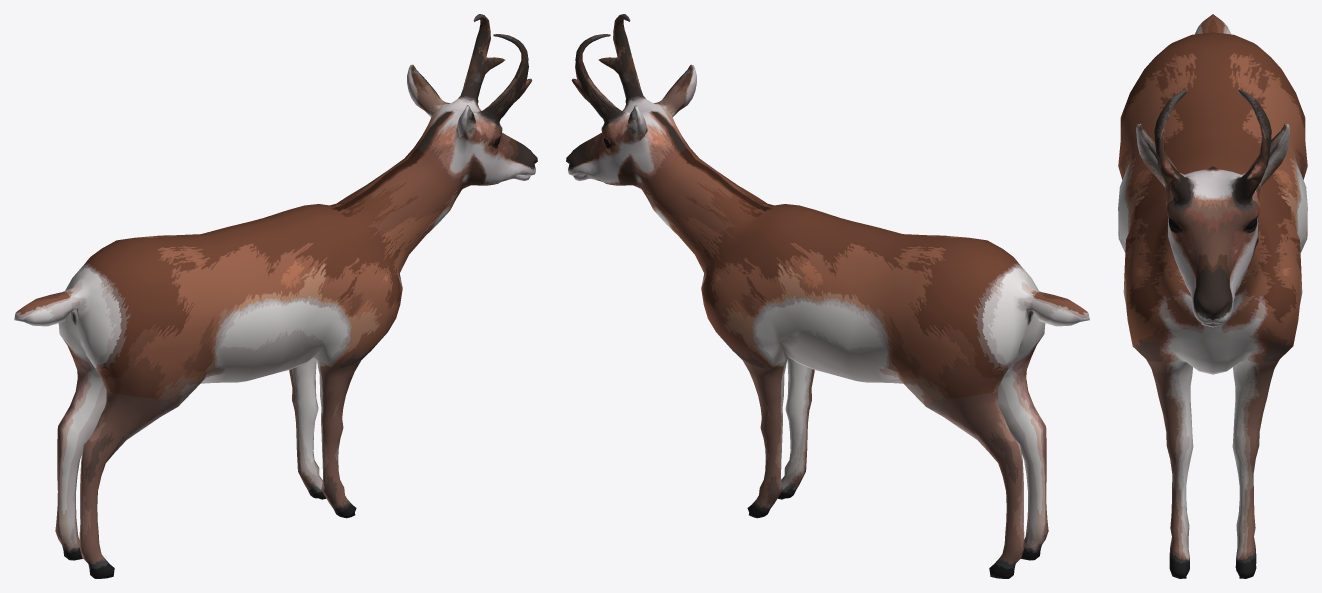
File: vidloroh.glb
3 renders of one model, left to right at view 1: azimuth 30°, elevation 25°; view 2: azimuth 150°, elevation 25°; view 3: azimuth 270°, elevation 25°, orthographic. The views are drawn at different scales.
Parts seen in each view (by area): view 1: sm_1_0_0_Pronghorn_Body_0, sm_1_0_0_Pronghorn_Head_0; view 2: sm_1_0_0_Pronghorn_Body_0, sm_1_0_0_Pronghorn_Head_0; view 3: sm_1_0_0_Pronghorn_Body_0, sm_1_0_0_Pronghorn_Head_0.
Part boxes in pixels (x1=…): sm_1_0_0_Pronghorn_Body_0: x1=14, y1=148, x2=456, y2=578; sm_1_0_0_Pronghorn_Head_0: x1=407, y1=14, x2=537, y2=198; sm_1_0_0_Pronghorn_Body_0: x1=647, y1=148, x2=1089, y2=578; sm_1_0_0_Pronghorn_Head_0: x1=566, y1=14, x2=696, y2=198; sm_1_0_0_Pronghorn_Body_0: x1=1118, y1=14, x2=1307, y2=578; sm_1_0_0_Pronghorn_Head_0: x1=1136, y1=89, x2=1289, y2=327.
Bounding box in the file's own units: 1.59 × 1.3 × 0.3825.
3 materials, 3 textured.
